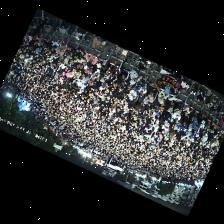person: (118, 55, 130, 80), (173, 103, 183, 123), (147, 82, 160, 97), (105, 60, 117, 75), (86, 52, 98, 66), (130, 69, 142, 83), (142, 104, 151, 122), (54, 45, 67, 57), (166, 95, 180, 106), (108, 70, 118, 85), (165, 107, 173, 125), (73, 47, 85, 59), (158, 90, 169, 103), (136, 77, 147, 89), (184, 104, 195, 115), (154, 98, 164, 110), (101, 68, 110, 81), (92, 65, 100, 79), (135, 103, 145, 114), (76, 57, 87, 67), (42, 38, 53, 48), (144, 93, 155, 103), (116, 80, 126, 91), (197, 111, 206, 123), (58, 52, 67, 64), (51, 39, 60, 51), (192, 117, 199, 132), (63, 55, 71, 68), (81, 68, 91, 78), (72, 62, 82, 72), (138, 85, 147, 96), (127, 78, 136, 89), (62, 69, 71, 80), (129, 87, 137, 99), (120, 88, 130, 97), (112, 90, 120, 101), (128, 99, 137, 108), (210, 121, 217, 132), (97, 58, 105, 67), (72, 71, 81, 79), (202, 133, 208, 144), (200, 120, 205, 133), (25, 34, 33, 42), (40, 47, 49, 54), (215, 125, 222, 134), (139, 96, 145, 106), (87, 64, 94, 72), (39, 34, 44, 45), (124, 102, 129, 113), (69, 57, 77, 63), (204, 126, 210, 132), (84, 65, 88, 74), (219, 130, 223, 135)
